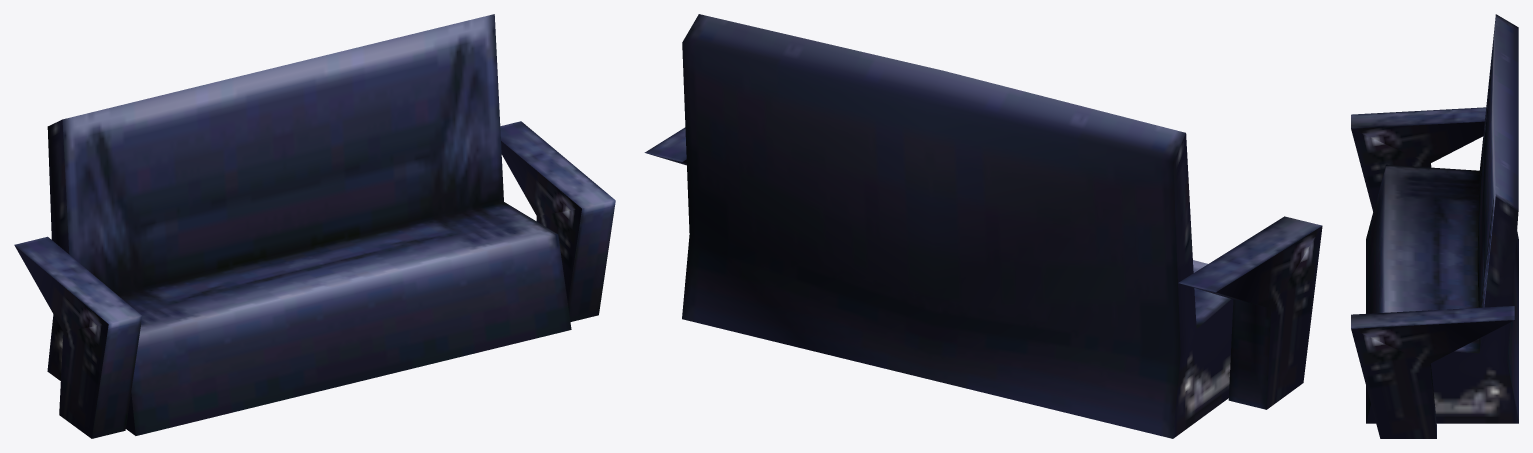
The model's file is frn_all_couch_lg_s2_l2.fbx.
3 views of the same model, side by side, from view 1: azimuth 30°, elevation 25°; view 2: azimuth 150°, elevation 25°; view 3: azimuth 270°, elevation 25° (orthographic). The views are drawn at different scales.
Visible parts, largest first — view 1: mesh_node; view 2: mesh_node; view 3: mesh_node.
Boxes of the visible parts, x1=… form: mesh_node: x1=14, y1=14, x2=615, y2=438; mesh_node: x1=644, y1=14, x2=1322, y2=438; mesh_node: x1=1351, y1=14, x2=1518, y2=438.
Size of the model in its own units: 2.4 by 1.19 by 0.7955.
